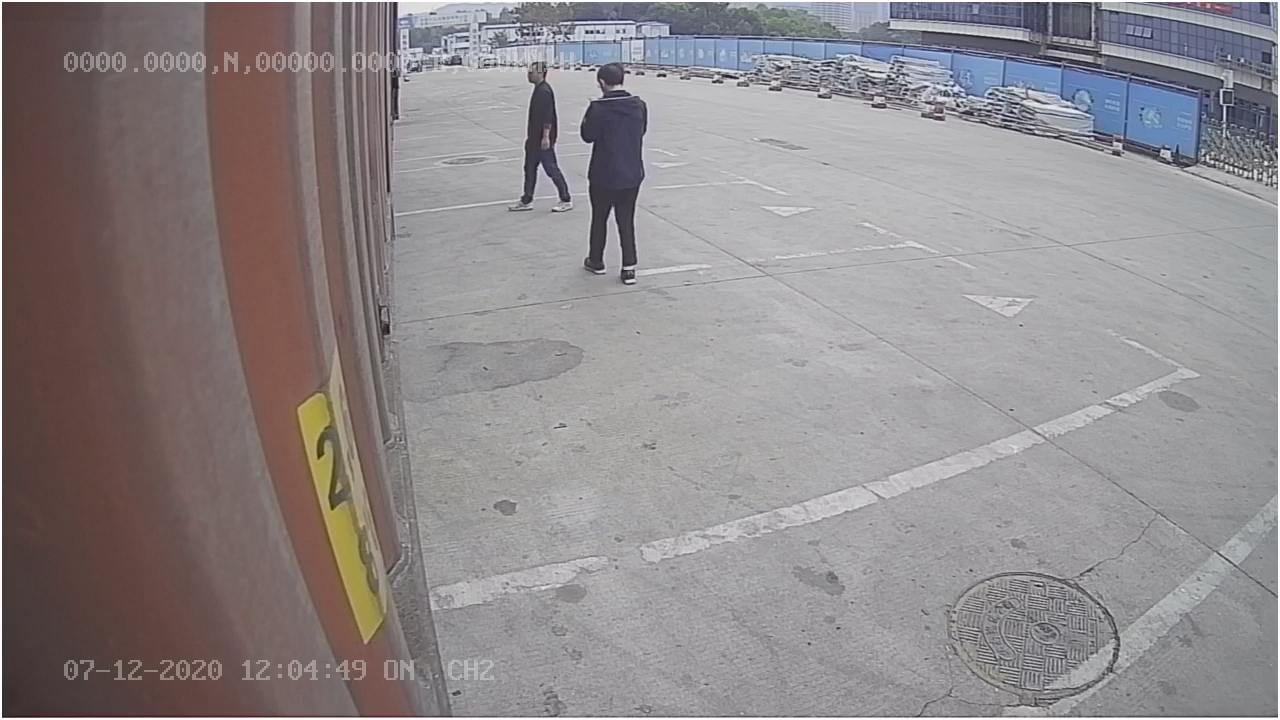person: (576, 60, 651, 288)
